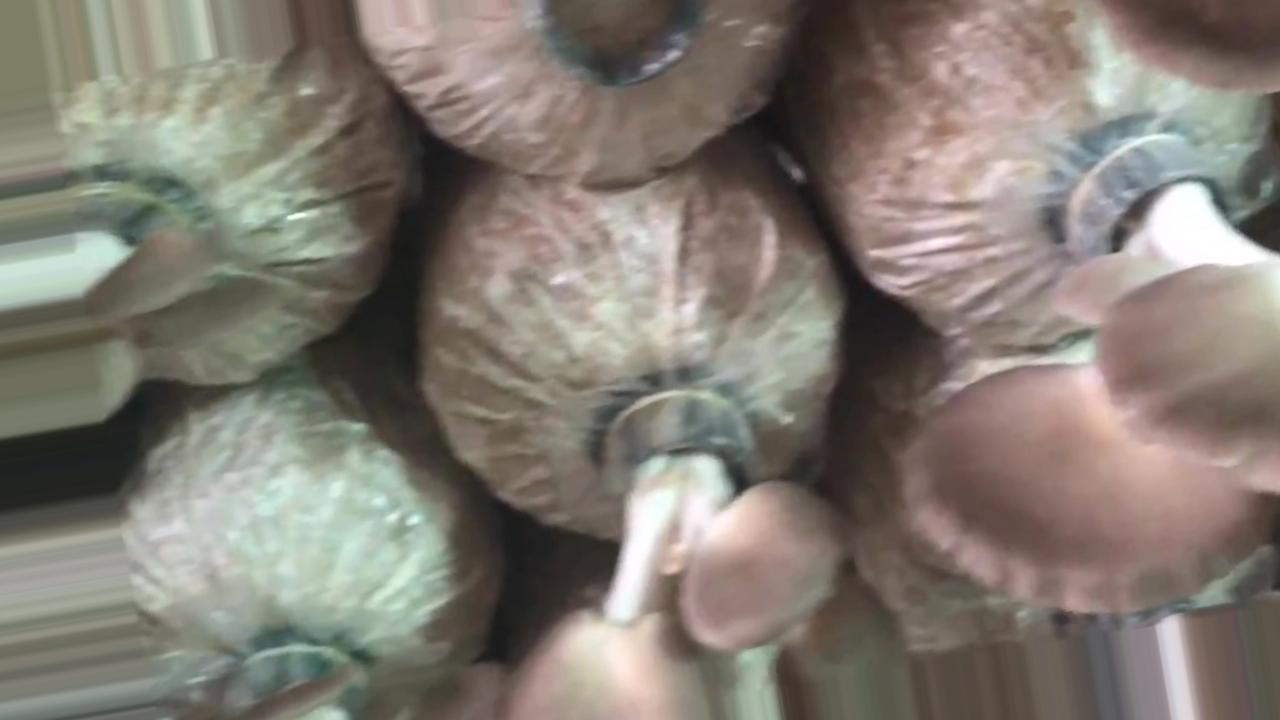nam: (893, 110, 1280, 613), (503, 377, 908, 720), (1098, 2, 1280, 102)
